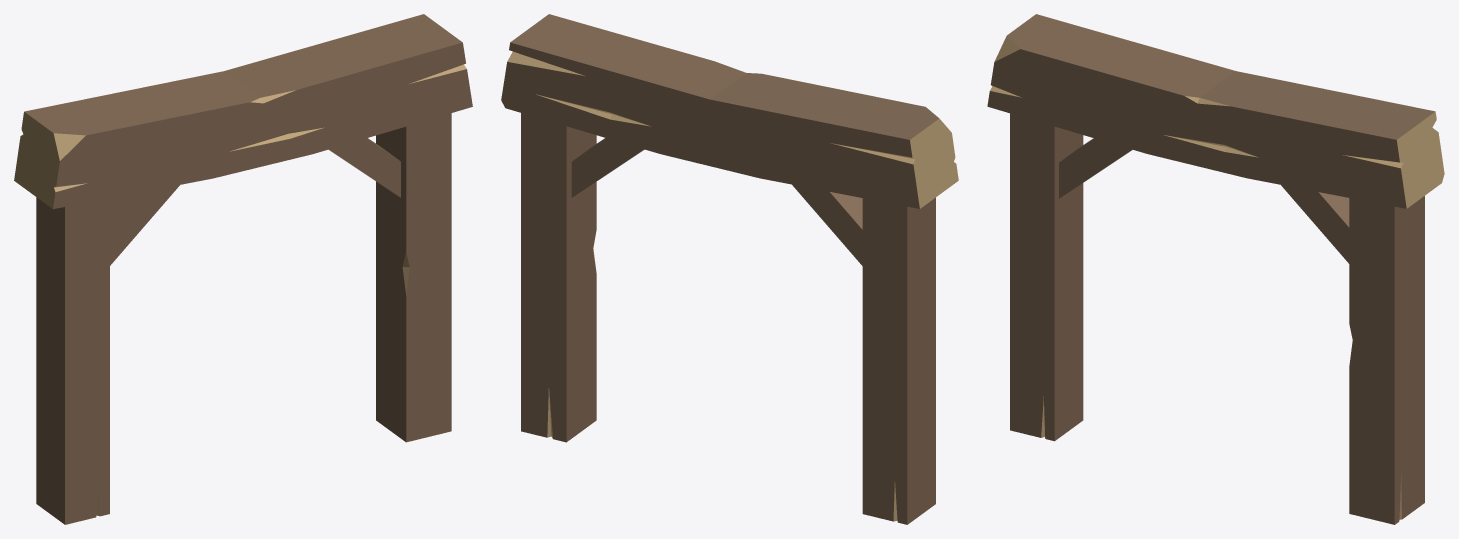
File: Cave_Prop_Entrance_1.obj
3 renders of one model, left to right at view 1: azimuth 30°, elevation 25°; view 2: azimuth 150°, elevation 25°; view 3: azimuth 330°, elevation 25°, orthographic.
Parts seen in each view (by area): view 1: object3; view 2: object3; view 3: object3.
Part boxes in pixels (x1,y1,x2,y2): object3: (14, 14, 472, 524); object3: (501, 14, 958, 524); object3: (987, 14, 1444, 524).
Bounding box in the file's own units: 2.42 × 2.15 × 0.3879.
